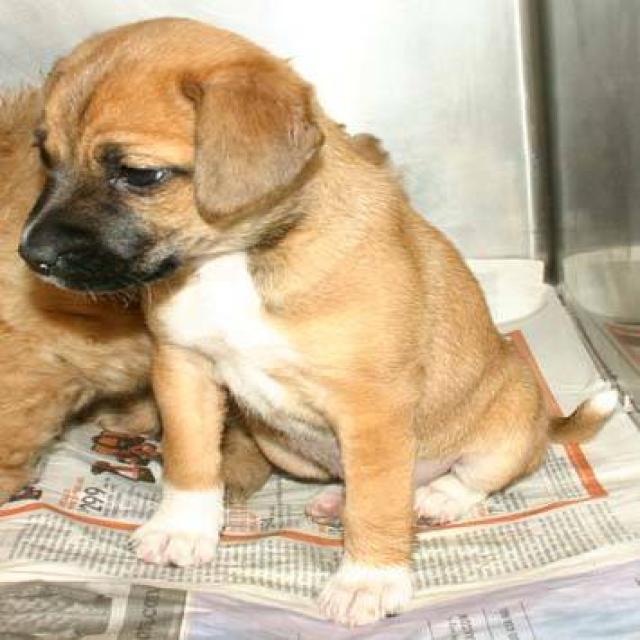dog: (8, 14, 618, 626)
